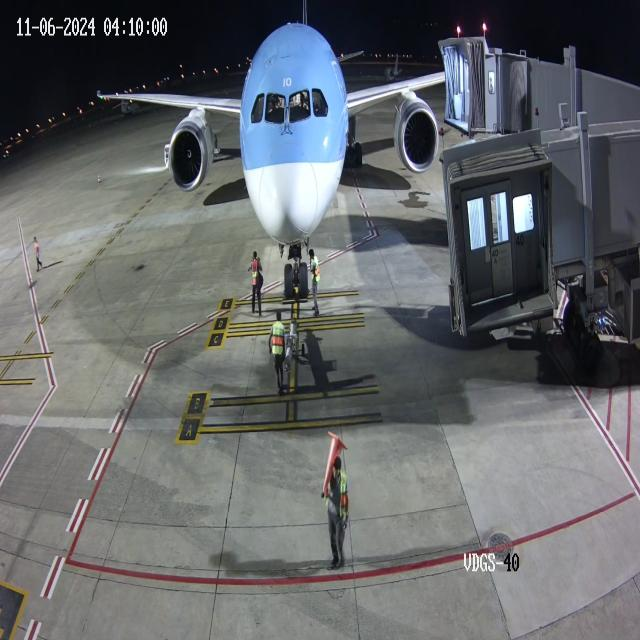bridge: (468, 28, 532, 144)
plane: (85, 0, 432, 312)
window: (242, 81, 340, 135)
